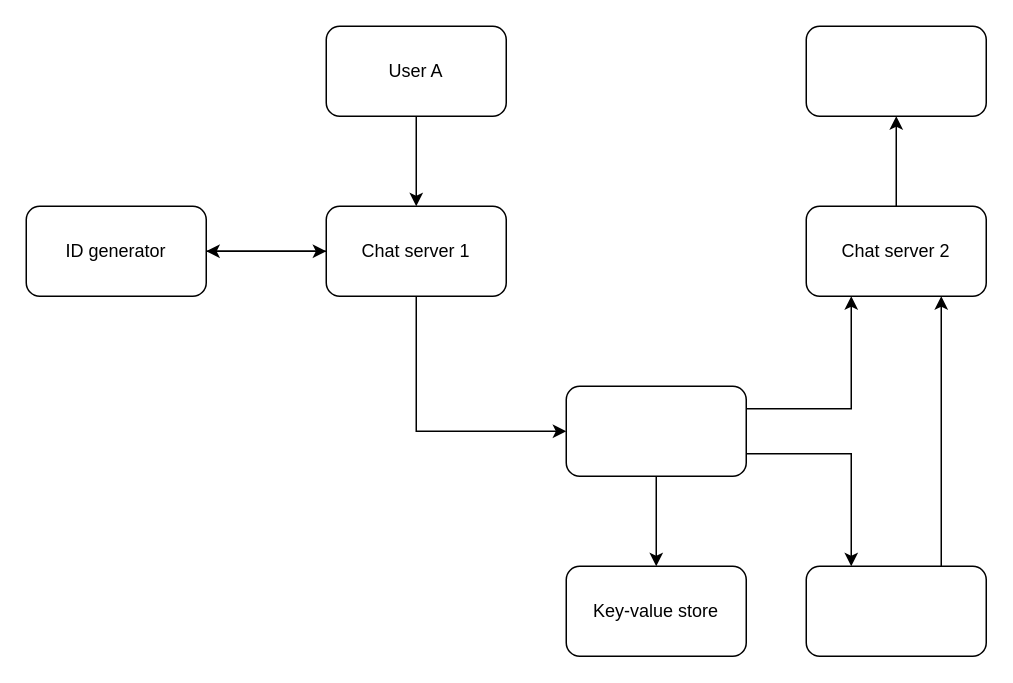
This 1013x683 diagram has some shape labels left out. The centre of each missing label's shape, as x and y in pixels:
Push notification servers: point (895, 610)
User B: point (895, 70)
User B message queue: point (655, 430)
